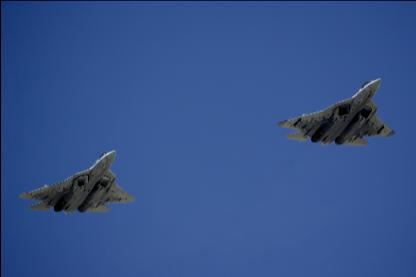SR71: (276, 77, 394, 145), (17, 149, 134, 213)
